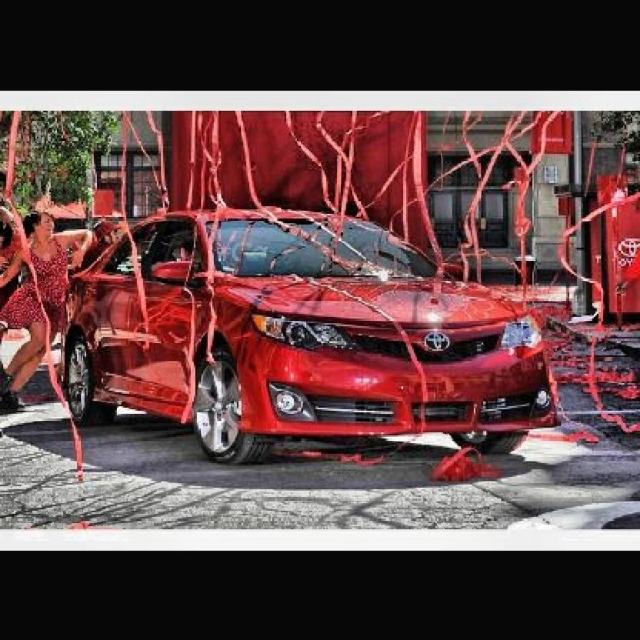red: (63, 207, 557, 466)
